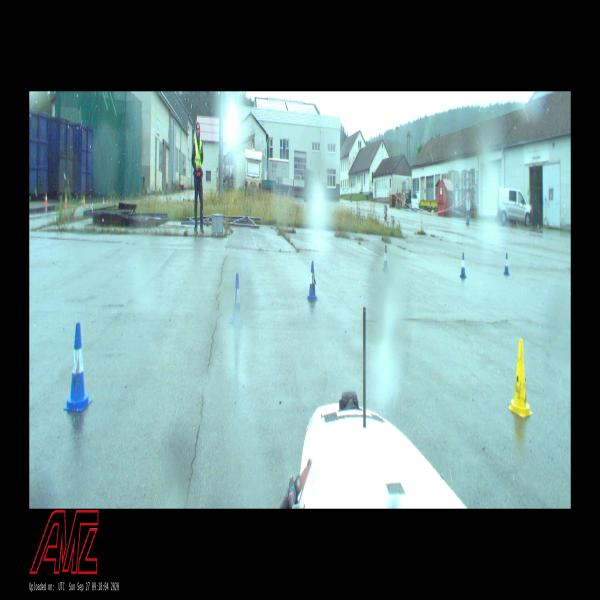blue_cone: (63, 322, 92, 413), (229, 273, 243, 330), (307, 261, 317, 301), (459, 252, 466, 278), (382, 246, 388, 272), (503, 253, 510, 275)
orange_cone: (82, 195, 86, 207), (102, 197, 105, 208), (65, 195, 67, 207), (45, 193, 47, 204)
yellow_cone: (507, 338, 533, 418)
